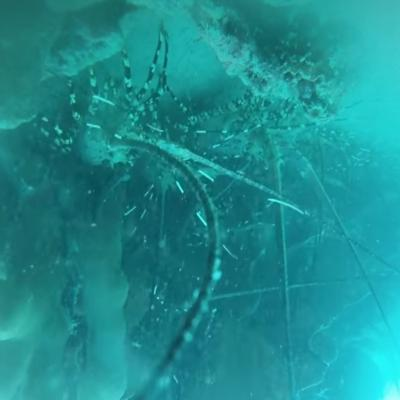lobster: (57, 69, 149, 168), (227, 112, 289, 168)
